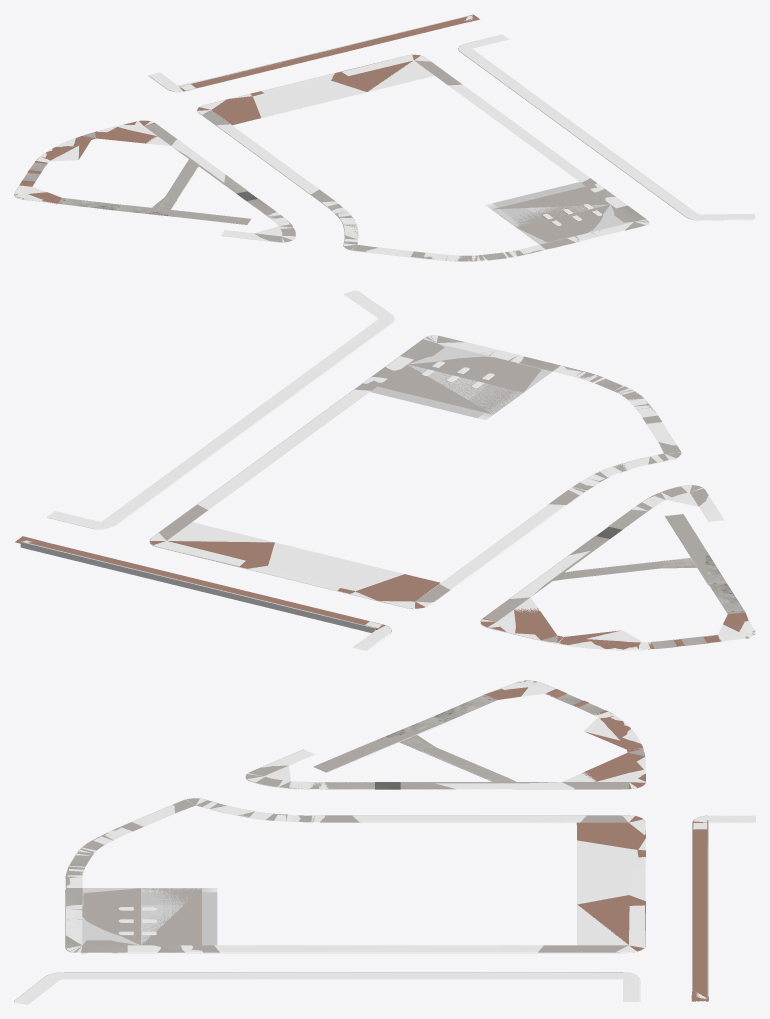
The model's file is sidewalk_canal.dae.
The picture shows the model from 3 angles, top to bottom: view 1: azimuth 30°, elevation 25°; view 2: azimuth 150°, elevation 25°; view 3: azimuth 270°, elevation 25°; orthographic projection. The views are drawn at different scales.
Parts seen in each view (by area): view 1: sidewalk_canal_a3000, sidewalk_canal_a2000; view 2: sidewalk_canal_a3000, sidewalk_canal_a2000; view 3: sidewalk_canal_a3000, sidewalk_canal_a2000.
Part boxes in pixels (x1,y1,x2,y2): sidewalk_canal_a3000: [14, 14, 755, 261]; sidewalk_canal_a2000: [14, 14, 648, 261]; sidewalk_canal_a3000: [20, 290, 755, 650]; sidewalk_canal_a2000: [15, 335, 755, 649]; sidewalk_canal_a3000: [14, 680, 755, 1004]; sidewalk_canal_a2000: [65, 680, 708, 1001].
Size of the model in its own units: 198 by 191 by 1.61.
